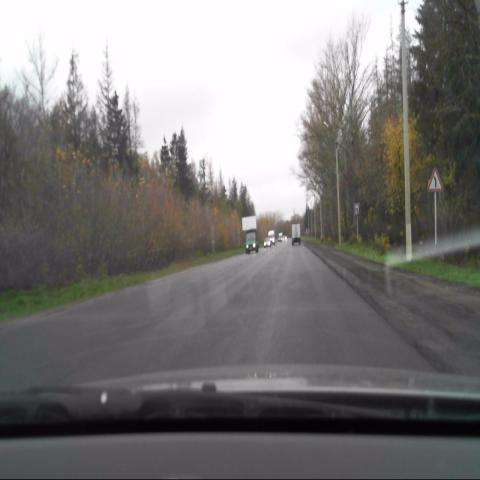1_11_1: (428, 165, 444, 195)
